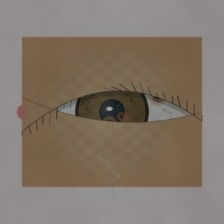foreign_body_visible: (111, 108, 132, 125)
